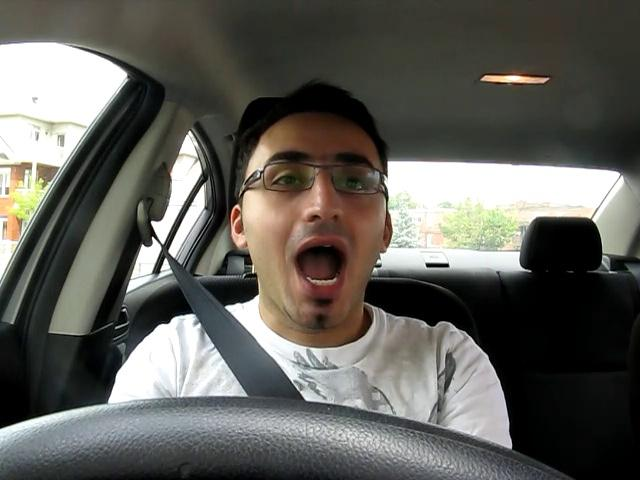open_eyeL: (252, 164, 317, 203)
open_eyeR: (326, 164, 386, 203)
yawn: (276, 234, 362, 297)
